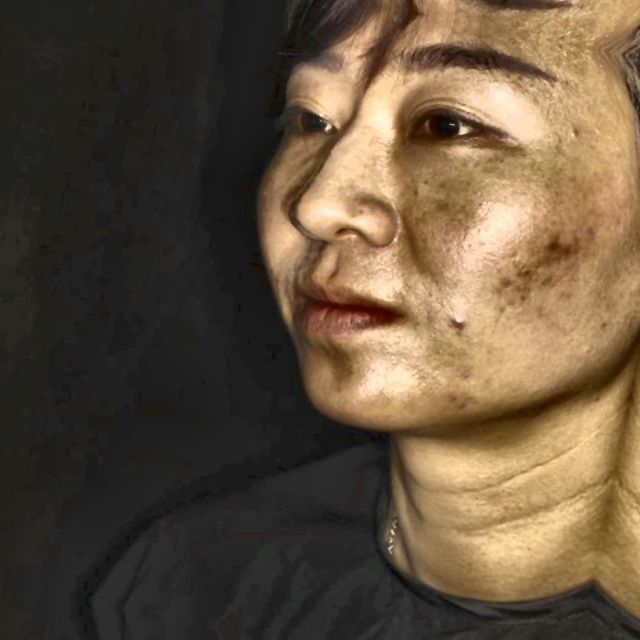comedone: (542, 228, 581, 269), (440, 388, 477, 419), (446, 307, 472, 334)
